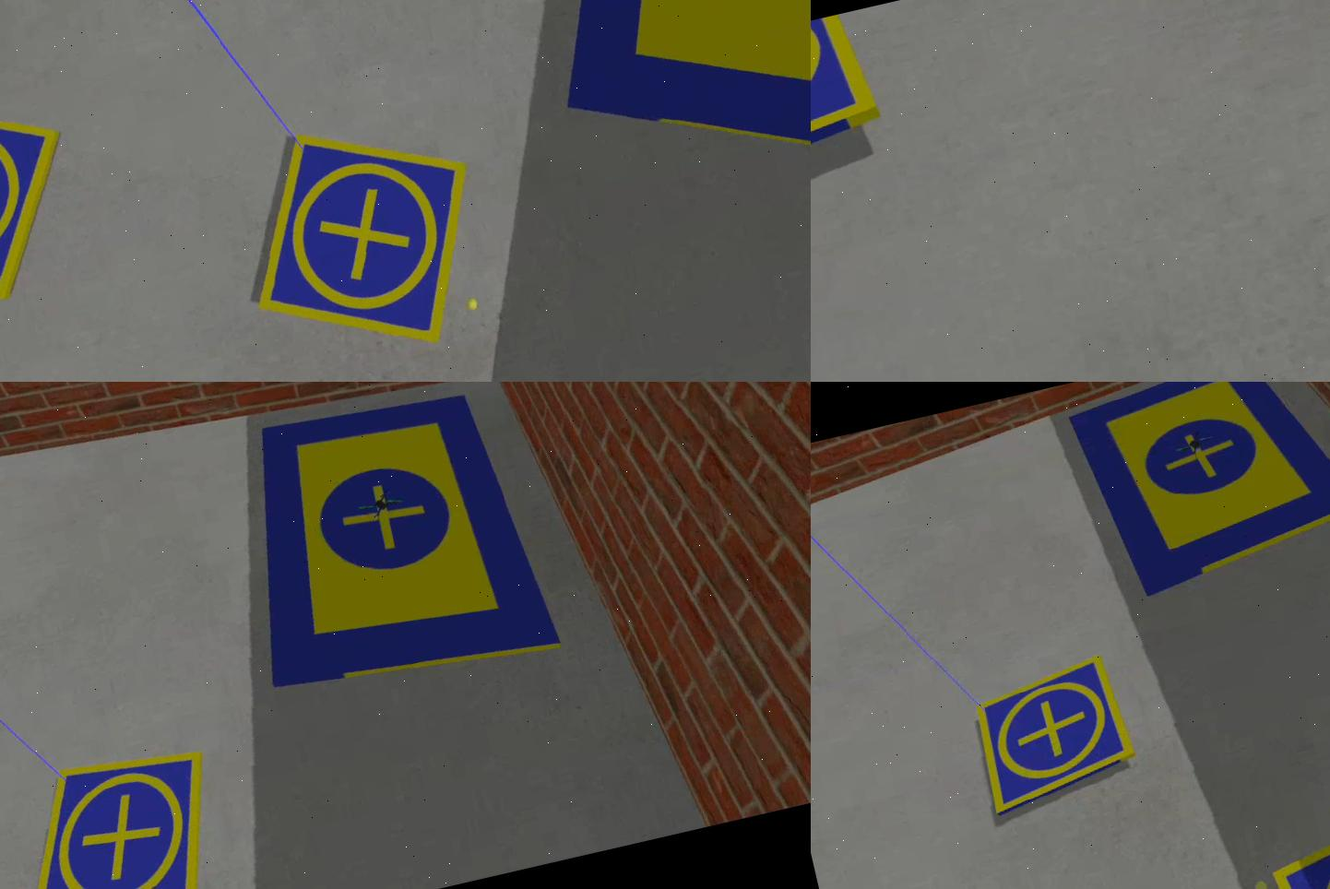large_base: (216, 383, 569, 715), (474, 1, 812, 243), (1063, 383, 1330, 607)
small_base: (220, 103, 505, 380), (1, 739, 238, 889), (957, 656, 1141, 819), (1, 70, 97, 339), (812, 9, 897, 243)
